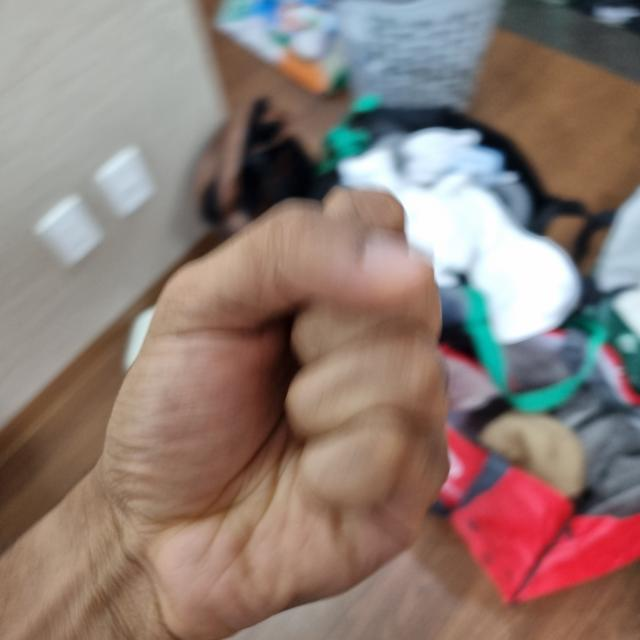Rock: (0, 204, 443, 639)
